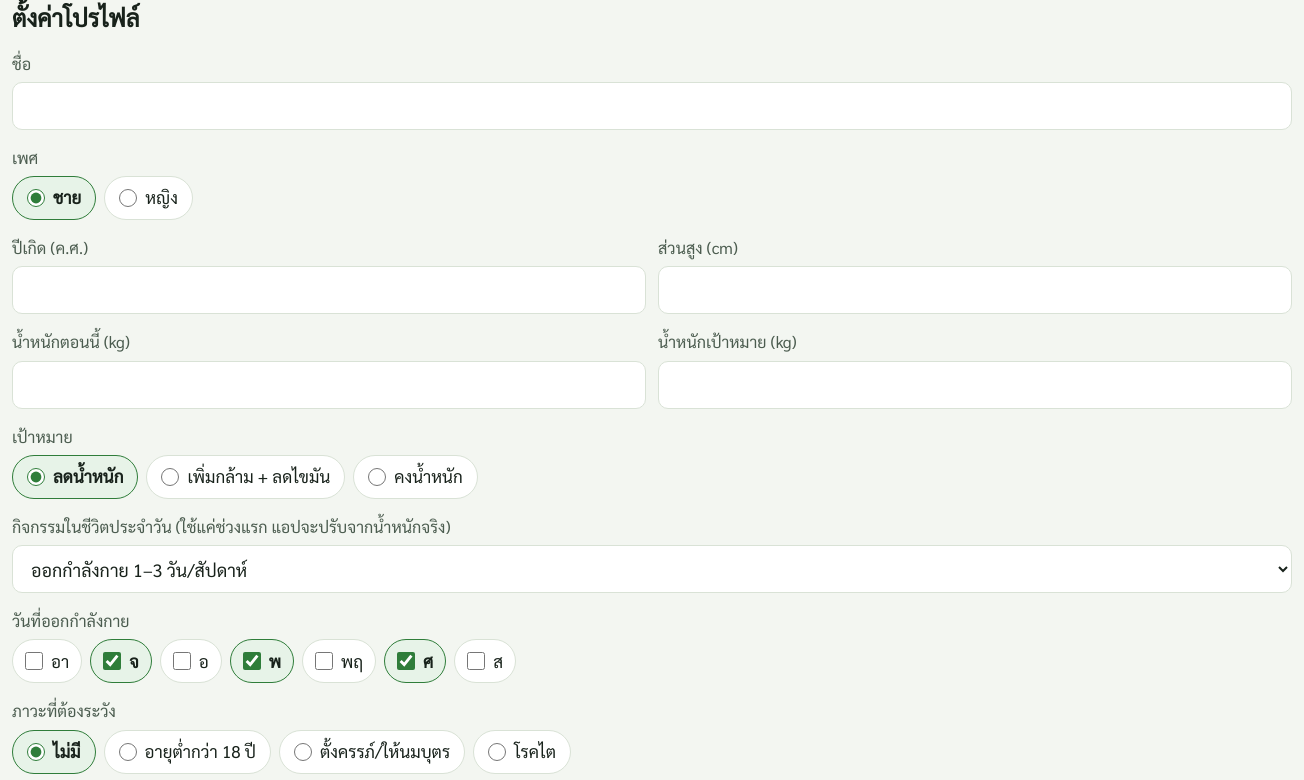
Test: a birth year under 18 selects the under-18 group and shows the advice
The image size is (1304, 780).
Type "2011" into the number field labelled "ปีเกิด (ค.ศ.)".
click(329, 290); type("2011")  # box top-left (12, 266), bottom-right (646, 314)
(page scrolled)
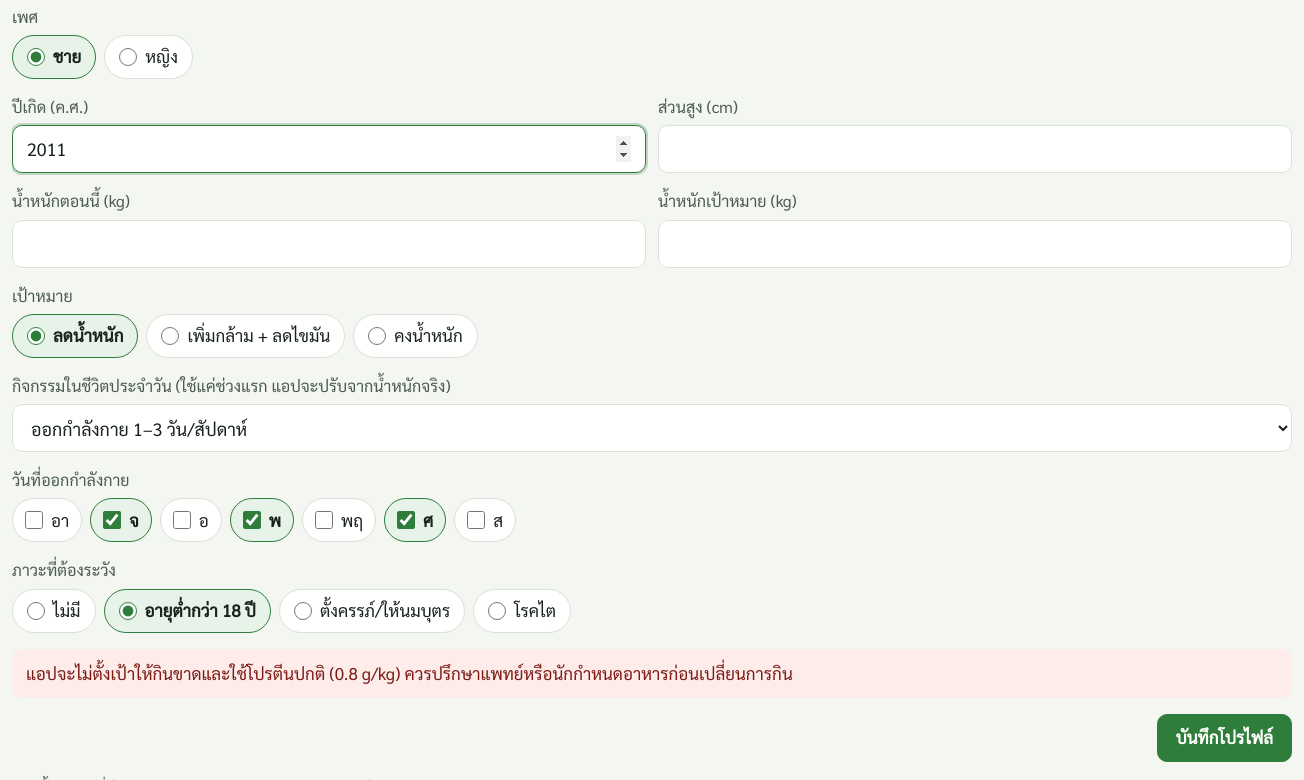
Check: the radio button labelled "อายุต่ำกว่า 18 ปี" is checked, box top-left (118, 602), bottom-right (136, 620)
Check: the text "ก่อนเปลี่ยนการกิน" is shown, box top-left (26, 662), bottom-right (793, 684)
